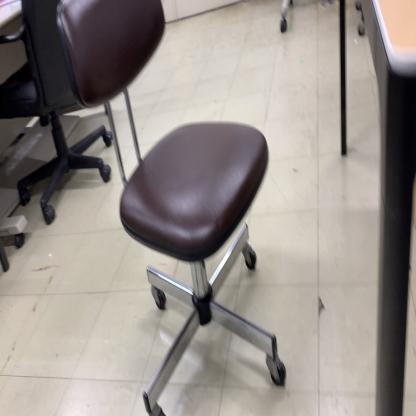chair: (53, 0, 288, 414), (1, 0, 112, 225)
